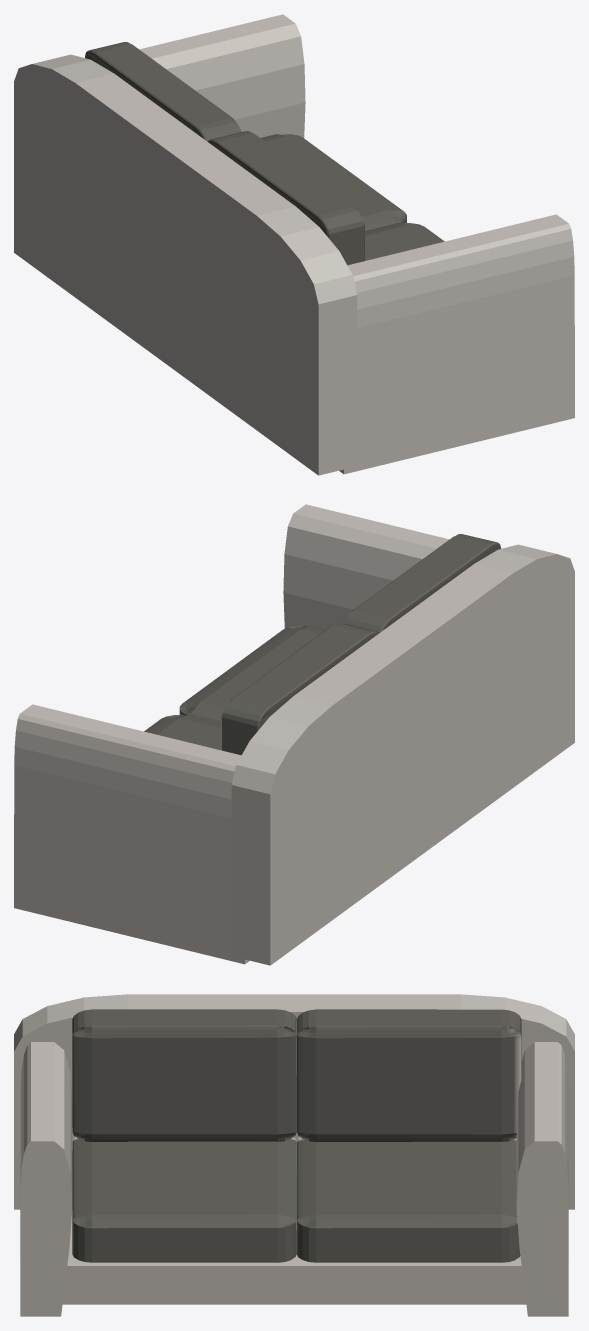
3 renders of one model, top to bottom at view 1: azimuth 30°, elevation 25°; view 2: azimuth 150°, elevation 25°; view 3: azimuth 270°, elevation 25°, orthographic. The views are drawn at different scales.
Parts seen in each view (by area): view 1: Kostka.003; view 2: Kostka.003; view 3: Kostka.003.
Part boxes in pixels (x1,y1,x2,y2): Kostka.003: (14, 14, 574, 475); Kostka.003: (14, 504, 574, 965); Kostka.003: (14, 994, 574, 1316).
Bounding box in the file's own units: 340 × 284 × 690.
1 material, 1 textured.
